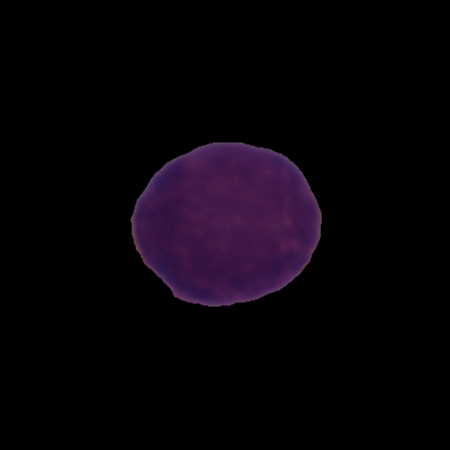HEM: (129, 137, 324, 311)
